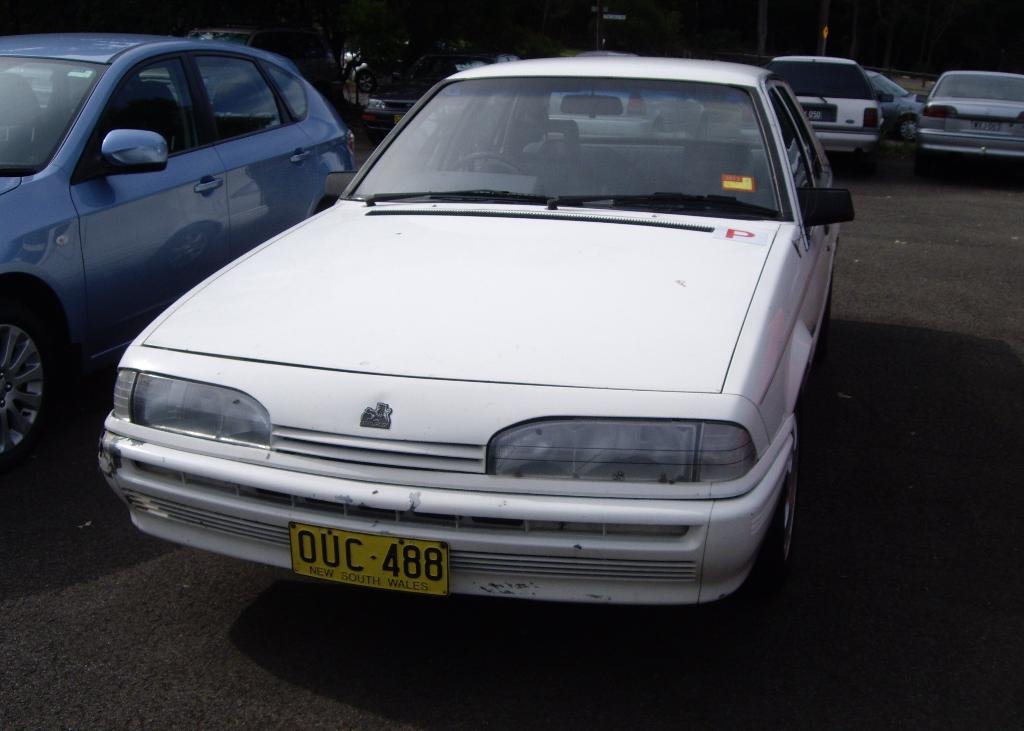Car: (0, 24, 1023, 604)
